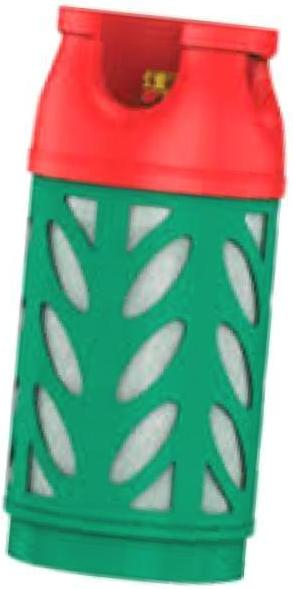cylinder: (1, 0, 293, 589)
